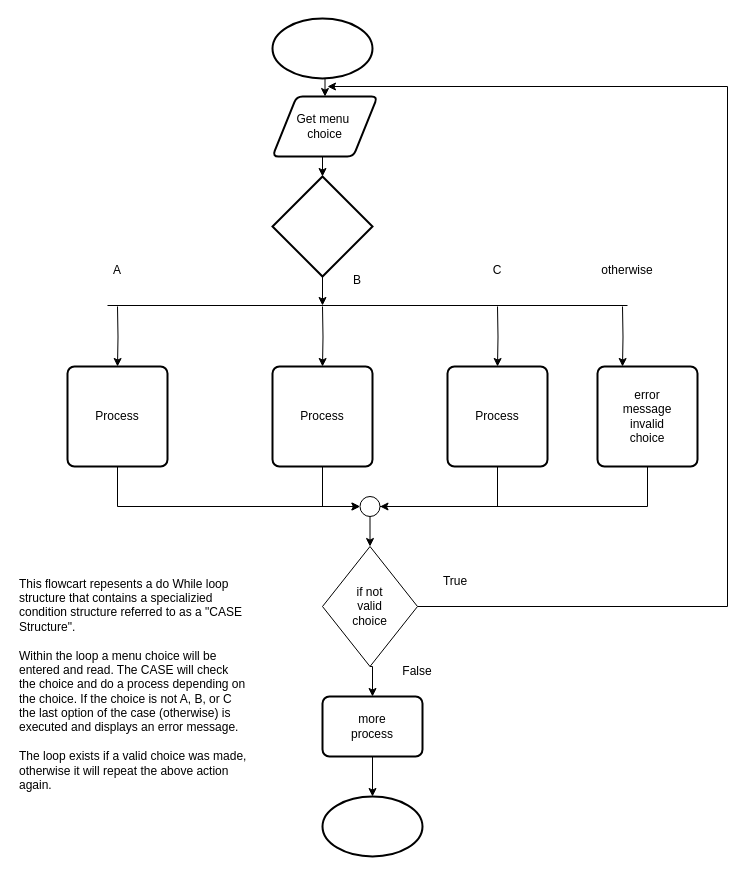
This 753x874 diagram has some shape labels left out. Here are the shapes that lost their labels. From the top down, the box of each, then its label:
(271, 17, 373, 79): start
(271, 175, 373, 277): letter
(321, 795, 423, 857): stop
